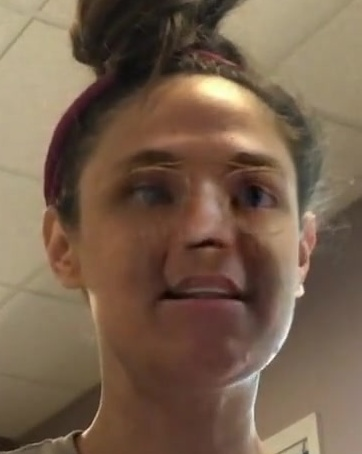n_f: (183, 175, 235, 255)
